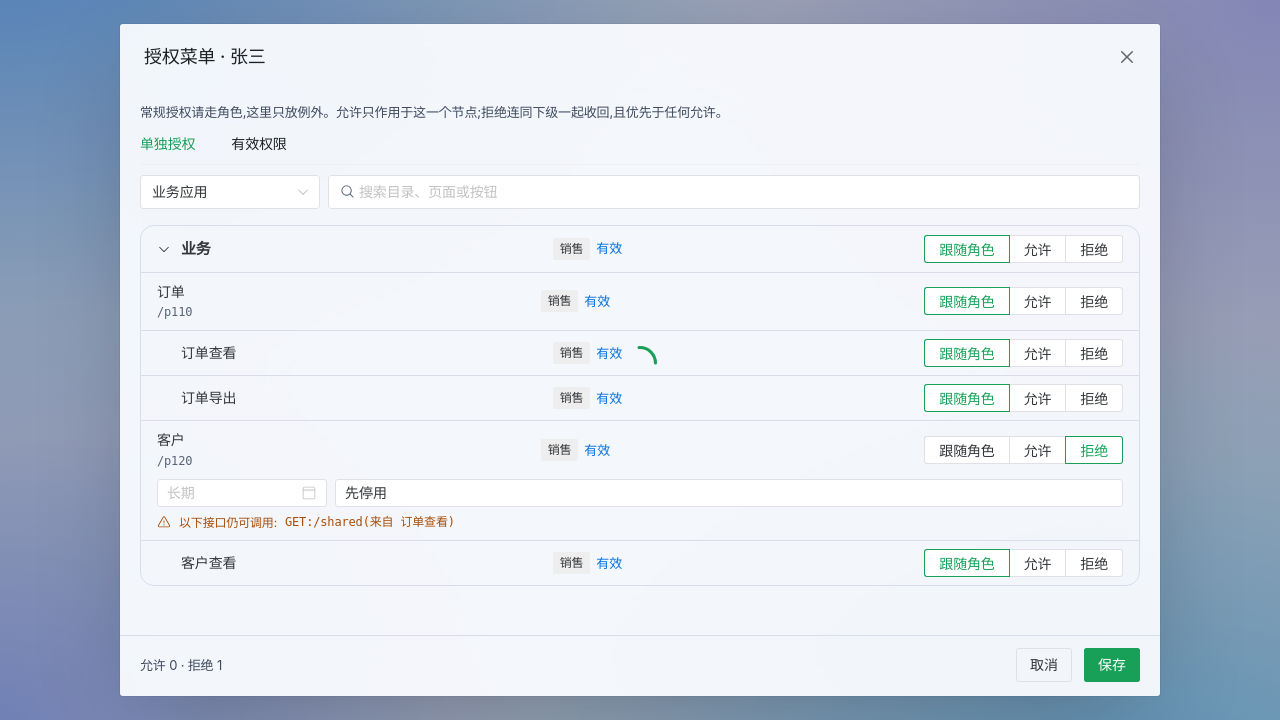
Test: UserGrantMenuSheet 快速切换用户 › 打开新用户时立刻清掉上一个用户的草稿:加载期间底栏回到 0,不残留未保存提示
Click the radio button with class "n-radio-button" in the row of "订单导出" at x=1038, y=398, box left=1010, top=384, right=1065, bottom=412
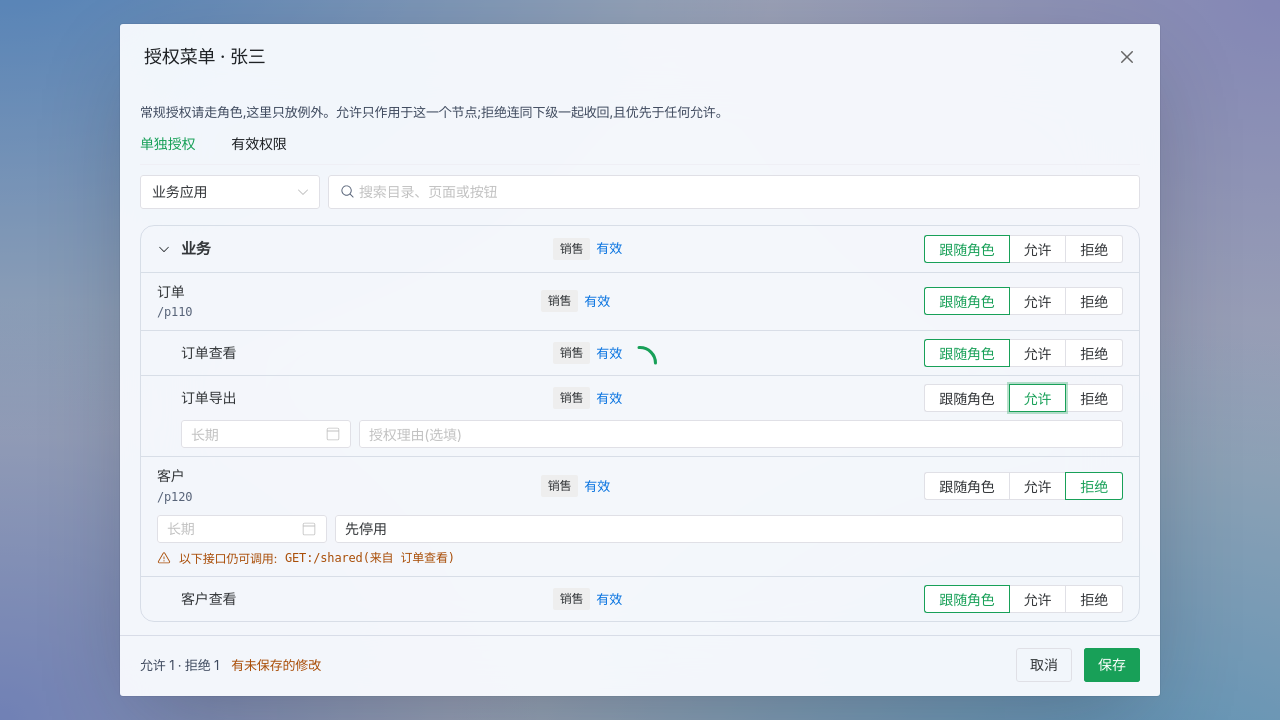
Now the text "允许 1 · 拒绝 1" is shown, box left=140, top=655, right=219, bottom=675
Now the text "有未保存的修改" is shown, box left=231, top=655, right=321, bottom=675
Click the button with class "n-button" showing "取消" at x=1044, y=665, box left=1016, top=648, right=1072, bottom=682
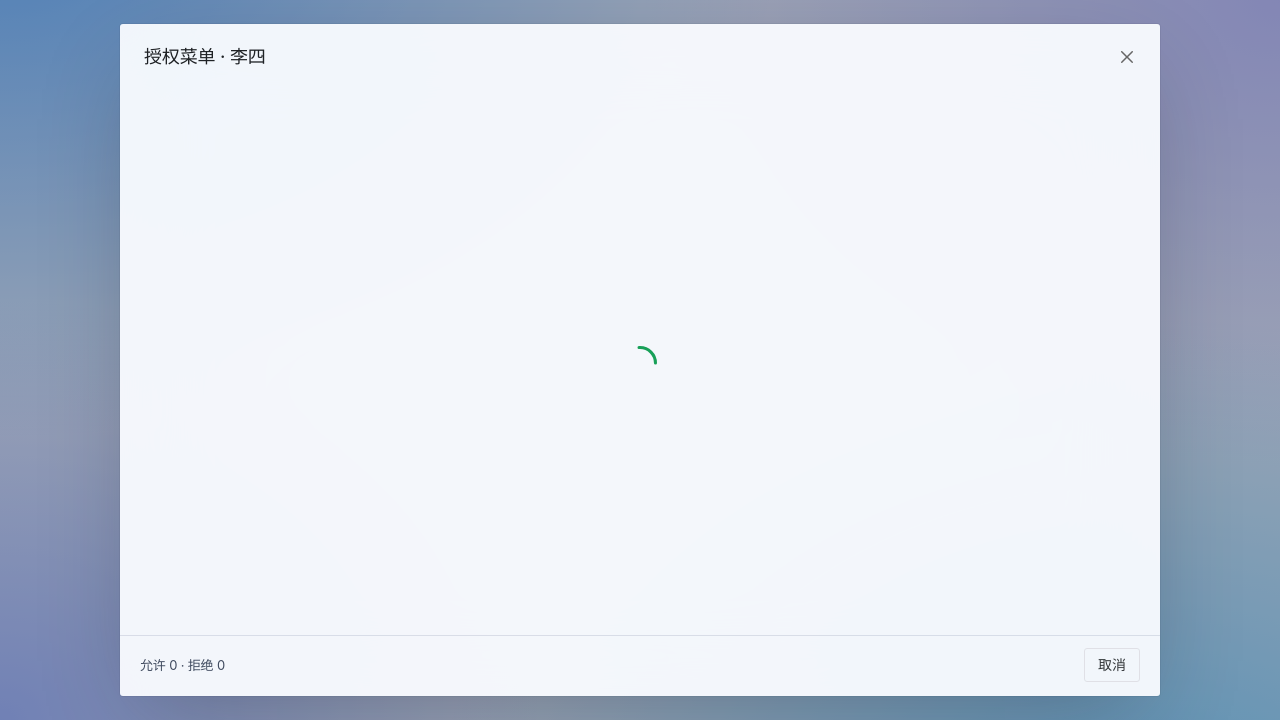
Now the text "允许 0 · 拒绝 0" is shown, box left=140, top=655, right=225, bottom=675
Now the text "有未保存的修改" is gone
